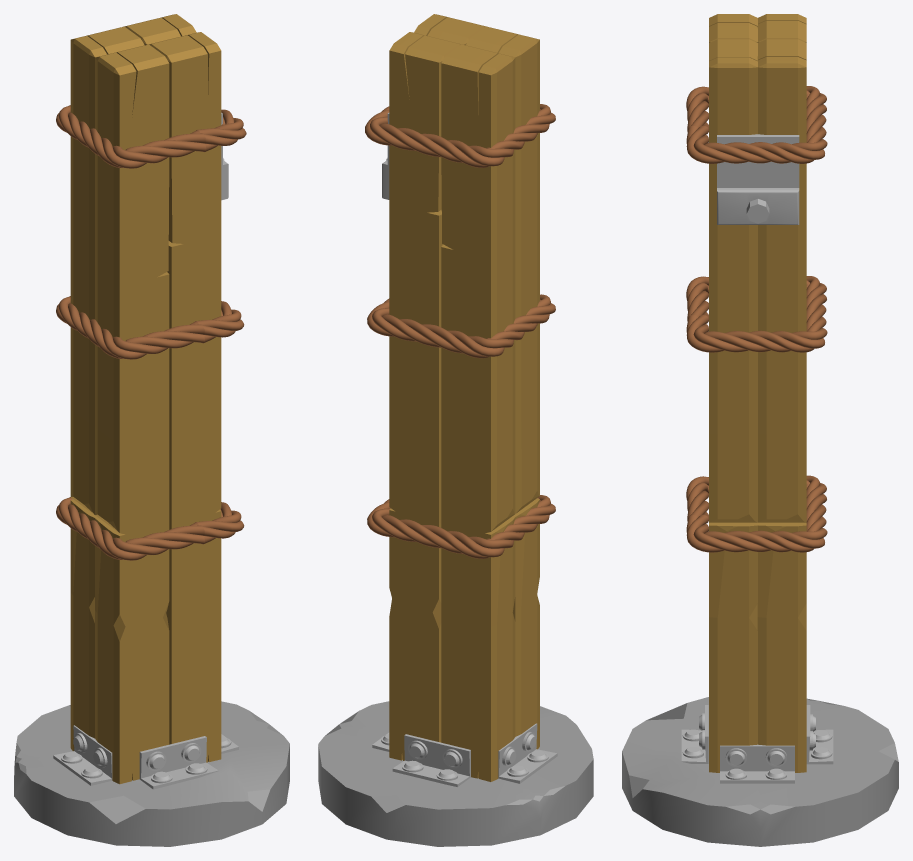
The picture shows the model from 3 angles, left to right: view 1: azimuth 30°, elevation 25°; view 2: azimuth 150°, elevation 25°; view 3: azimuth 270°, elevation 25°; orthographic projection.
Parts seen in each view (by area): view 1: Cube.145, Cube.045, Circle.016, Cube.052, seil.005, seil.007, seil.006, Plane.006, Plane.009, Cube.051; view 2: Cube.052, Cube.051, Circle.016, Cube.145, seil.005, seil.007, seil.006, Plane.007, Plane.009, Cube.045; view 3: Cube.051, Cube.045, Circle.016, Plane.005, seil.005, seil.007, seil.006, Plane.008, Cube.052, Cube.145, Plane.007, Plane.006.
Part boxes in pixels (x1,y1,x2,y2): Cube.145: (95, 44, 169, 784); Cube.045: (147, 32, 221, 762); Circle.016: (14, 701, 289, 846); Cube.052: (70, 26, 144, 751); seil.005: (56, 105, 246, 168); seil.007: (56, 497, 244, 560); seil.006: (56, 296, 244, 359); Plane.006: (139, 736, 218, 789); Plane.009: (53, 725, 112, 785); Cube.051: (123, 14, 196, 45); Cube.052: (441, 44, 515, 781); Cube.051: (389, 32, 462, 760); Circle.016: (318, 701, 593, 846); Cube.145: (466, 26, 539, 749); seil.005: (365, 104, 555, 167); seil.007: (367, 495, 555, 558); seil.006: (367, 294, 555, 358); Plane.007: (392, 734, 470, 786); Plane.009: (498, 723, 557, 783); Cube.045: (414, 14, 487, 45); Cube.051: (757, 39, 806, 772); Cube.045: (709, 39, 757, 772); Circle.016: (622, 697, 898, 846); Plane.005: (717, 134, 799, 224); seil.005: (686, 86, 827, 163); seil.007: (686, 475, 827, 552); seil.006: (686, 276, 827, 352); Plane.008: (720, 744, 794, 783); Cube.052: (757, 14, 806, 42); Cube.145: (709, 14, 757, 42); Plane.007: (806, 705, 833, 764); Plane.006: (681, 705, 708, 763).
Size of the model in its own units: 132 by 394 by 132.
